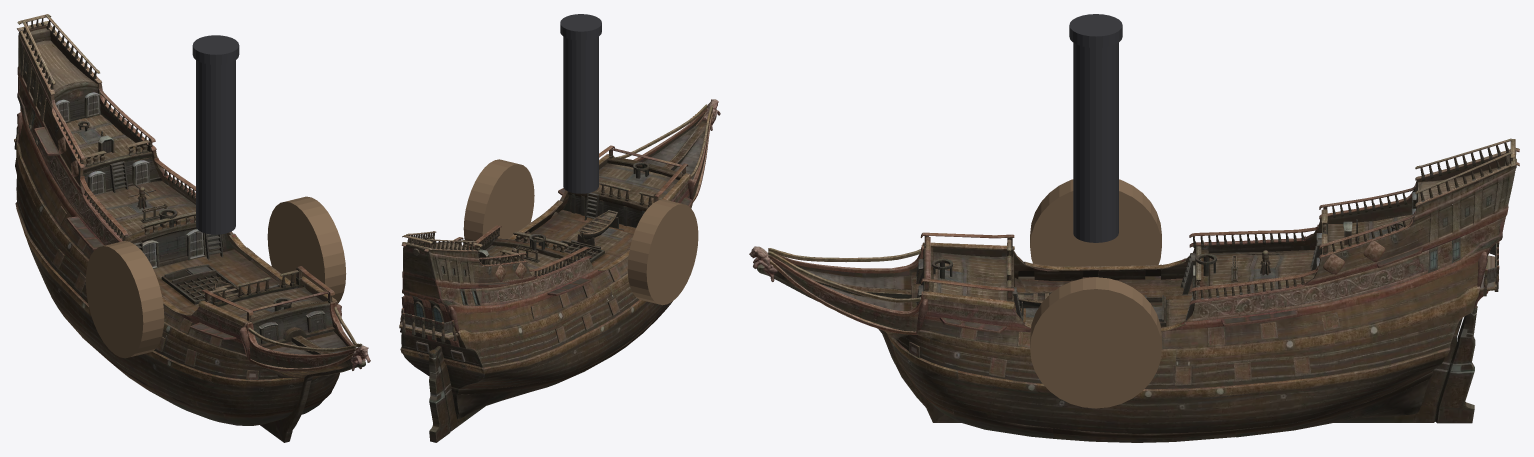
File: ship-steam.glb
3 renders of one model, left to right at view 1: azimuth 30°, elevation 25°; view 2: azimuth 150°, elevation 25°; view 3: azimuth 270°, elevation 25°, orthographic. The views are drawn at different scales.
Parts seen in each view (by area): view 1: dutch_ship_large_02_hull, steam_parts; view 2: dutch_ship_large_02_hull, steam_parts; view 3: dutch_ship_large_02_hull, steam_parts.
Part boxes in pixels (x1,y1,x2,y2): dutch_ship_large_02_hull: [14, 14, 370, 442]; steam_parts: [85, 35, 346, 358]; dutch_ship_large_02_hull: [399, 99, 720, 442]; steam_parts: [463, 14, 698, 305]; dutch_ship_large_02_hull: [749, 138, 1519, 442]; steam_parts: [1030, 14, 1161, 408].
Bounding box in the file's own units: 10.6 × 17.23 × 30.38.
3 materials, 1 textured.
